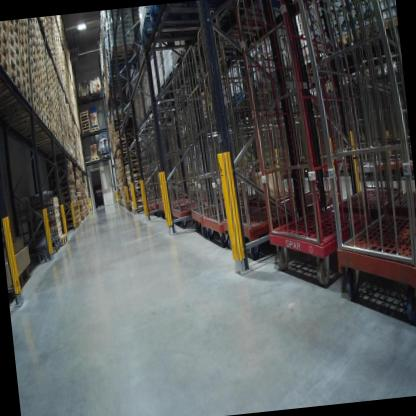pallet: (135, 3, 298, 68), (147, 0, 267, 34), (3, 102, 43, 131), (0, 70, 27, 110), (0, 87, 33, 118), (17, 112, 48, 135), (108, 40, 138, 58), (0, 44, 12, 86), (6, 53, 23, 82), (5, 21, 21, 50), (7, 41, 20, 68), (0, 31, 10, 64), (17, 31, 29, 57), (9, 31, 20, 59), (18, 24, 29, 50), (20, 55, 31, 78), (0, 21, 9, 48), (22, 74, 32, 96), (19, 20, 29, 40), (29, 70, 39, 89), (28, 62, 37, 83), (21, 66, 30, 86), (18, 45, 27, 65), (27, 45, 37, 63), (35, 85, 45, 103), (30, 80, 39, 99), (32, 90, 41, 108), (58, 232, 68, 247), (29, 27, 35, 46), (30, 39, 37, 55), (29, 57, 36, 72), (37, 79, 44, 94), (0, 24, 11, 33), (38, 97, 45, 111), (29, 20, 35, 36), (41, 106, 47, 120), (81, 128, 90, 136), (90, 125, 100, 132), (37, 72, 42, 85), (36, 64, 41, 77), (80, 118, 89, 125), (81, 121, 90, 128), (79, 109, 89, 115), (90, 155, 100, 161), (100, 153, 110, 159), (81, 124, 90, 130), (80, 116, 88, 122), (79, 113, 88, 118)
